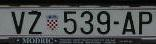-: (113, 20, 120, 25)
3: (80, 10, 94, 35)
5: (63, 10, 78, 35)
9: (97, 11, 110, 35)
A: (122, 11, 136, 35)
P: (139, 11, 152, 35)
V: (11, 11, 25, 34)
Z: (27, 11, 43, 34)
